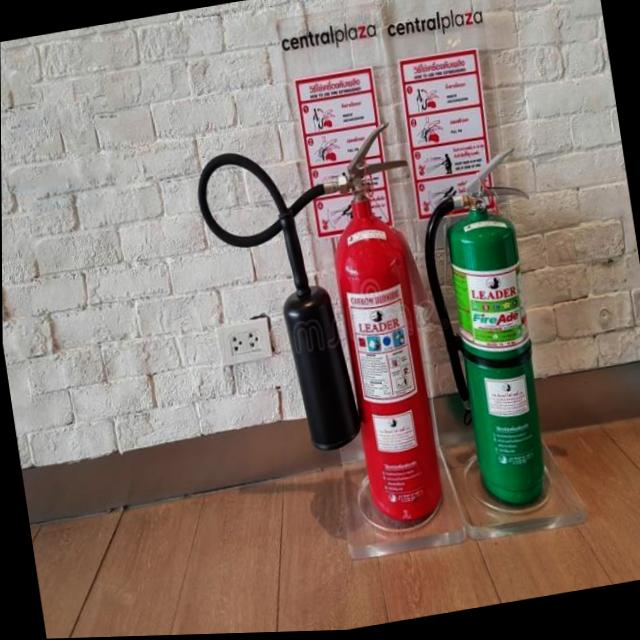FireExtinguisher: (183, 105, 466, 568), (405, 140, 576, 525)
